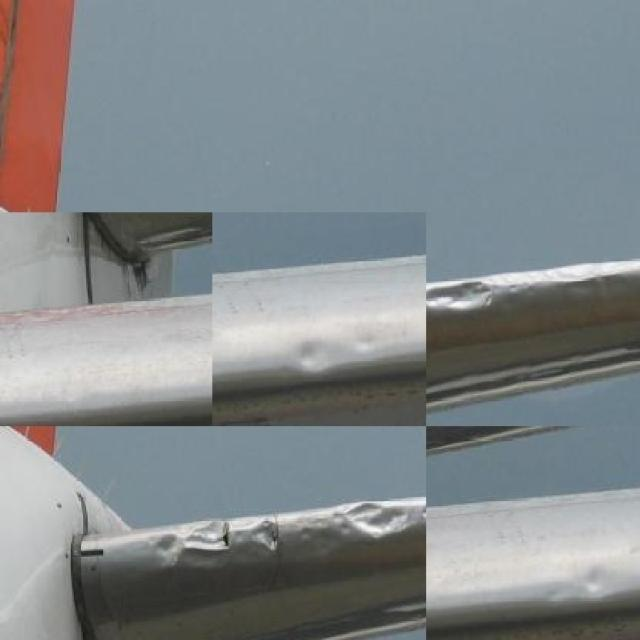dent: (550, 263, 629, 300), (346, 504, 417, 541), (427, 278, 503, 312), (290, 335, 332, 375), (189, 519, 232, 558), (143, 532, 185, 568), (252, 518, 287, 554), (297, 515, 334, 549), (355, 331, 380, 357), (583, 571, 606, 594)
